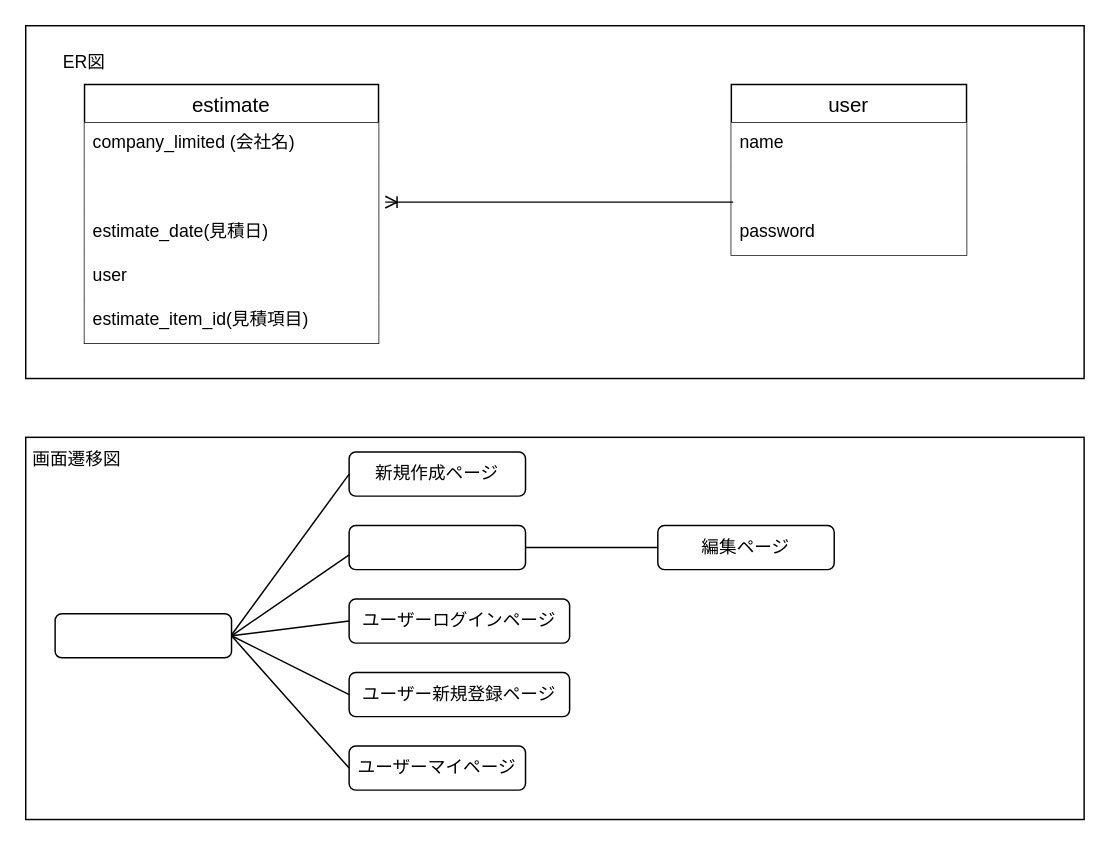
The diagram is 1110 pixels wide and 845 high, and some of its shapes have lost their labels. Here are the shapes that lost their labels. From the top down, the centre of each, then its label:
At point 231,188: "estimate _number(見積書番号)".
At point 848,188: "email".
At point 437,547: "詳細ページ".
At point 143,635: "一覧ページ".
